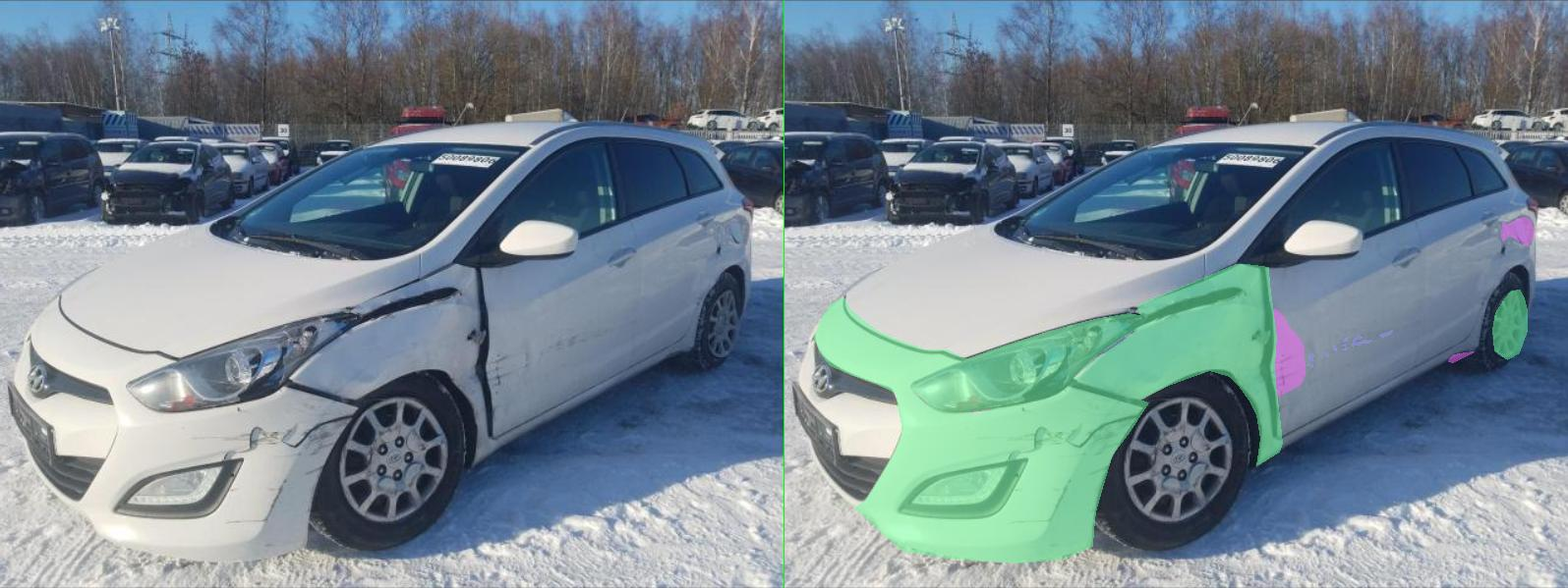Broken part: (59, 297, 728, 562), (578, 264, 995, 465), (254, 313, 720, 412), (1417, 290, 1485, 359), (933, 324, 974, 349)
Dent: (889, 305, 1041, 397), (893, 267, 952, 312), (1434, 217, 1499, 245), (1328, 351, 1379, 362)
Scratch: (531, 482, 567, 519), (384, 432, 498, 442), (606, 427, 653, 447), (452, 517, 531, 526), (620, 441, 665, 456), (563, 423, 596, 442), (510, 436, 559, 446), (976, 356, 1017, 367), (637, 432, 679, 441), (978, 372, 1019, 381), (661, 421, 698, 430), (1135, 340, 1175, 347), (606, 466, 641, 474), (608, 425, 635, 434), (535, 431, 563, 438), (1190, 330, 1216, 337), (555, 454, 594, 458), (976, 368, 1001, 374), (984, 384, 1005, 390), (1137, 335, 1155, 341), (567, 475, 578, 482), (1051, 352, 1058, 360), (537, 488, 551, 491), (1080, 351, 1088, 356), (1116, 338, 1125, 342), (1098, 345, 1104, 350), (1049, 363, 1056, 367), (1114, 347, 1127, 349), (995, 353, 1001, 357), (598, 453, 606, 456), (1114, 344, 1125, 346), (1114, 344, 1123, 346)
